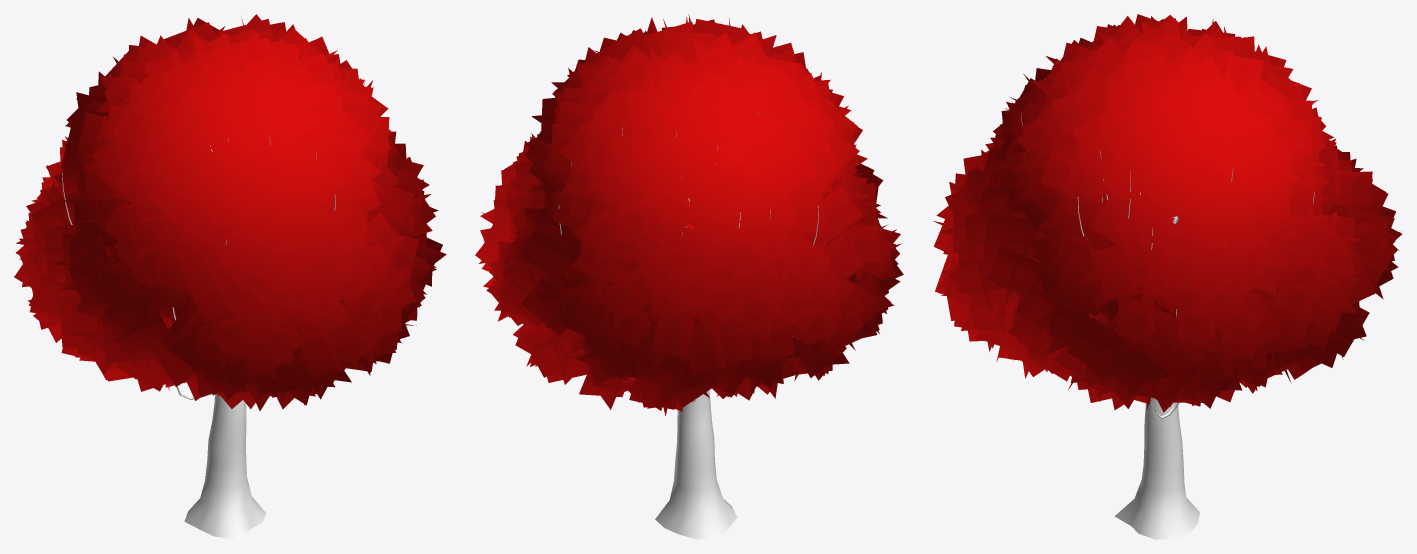
The model's file is SM_tree_02.FBX.
The picture shows the model from 3 angles, left to right: view 1: azimuth 30°, elevation 25°; view 2: azimuth 150°, elevation 25°; view 3: azimuth 270°, elevation 25°; orthographic projection.
Parts seen in each view (by area): view 1: SM_tree_02_LOD0; view 2: SM_tree_02_LOD0; view 3: SM_tree_02_LOD0.
Part boxes in pixels (<box>): SM_tree_02_LOD0: <box>14,14,446,539</box>; SM_tree_02_LOD0: <box>475,14,903,539</box>; SM_tree_02_LOD0: <box>933,14,1402,539</box>.
Size of what is drawn, in the model's own units: 1456 by 1546 by 1783.
